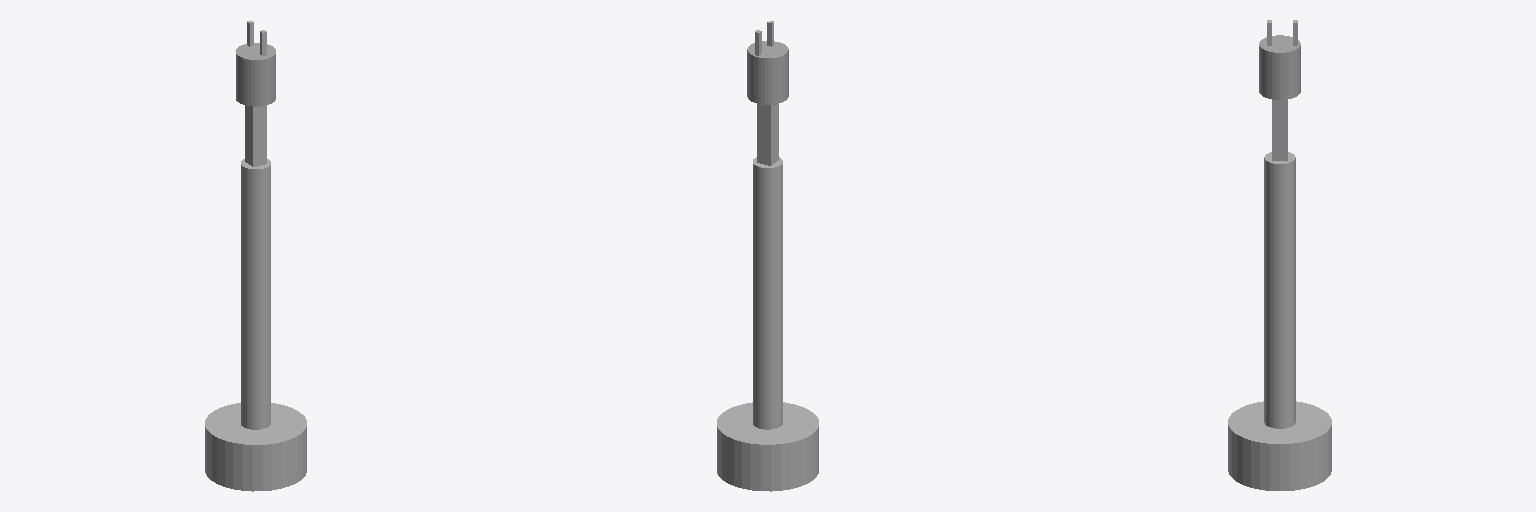
robot.urdf — manipulator:
<?xml version="1.0" ?>
<robot name="manipulator">

  <material name="yellow">
    <color rgba="0.0 0.8 0.0 1.0"/>
  </material>
  <material name="red">
    <color rgba="0.0 0.8 0.0 1.0"/>
  </material>
  <material name="black">
    <color rgba="0.0 0.0 0.0 1.0"/>
  </material>
  <material name="blue">
    <color rgba="0.0 0.0 0.0 1.0"/>
  </material>
 <material name="white">
    <color rgba="0.0 0.0 0.0 1.0"/>
  </material>
    <link name="world" />
    <!-- BASE LINK -->
    <link name="base_link">
        <visual>
            <origin rpy="0 0 0" xyz="0 0 0.01" />
            <material name="silver">
                <color rgba="0.75 0.75 0.75 1" />
            </material>
             
        </visual>
        <collision>
            <origin rpy="0 0 0" xyz="0 0 0.01" />
            <geometry>
                <cylinder length="0.02" radius="0.5" />
            </geometry>
        </collision>
        
        <inertial>

            <mass value="0.1" />
            <inertia ixx="0.03" iyy="0.03" izz="0.03" ixy="0.0" ixz="0.0" iyz="0.0" />
        </inertial>

    </link>
    <gazebo reference="base_link">
        <material>Gazebo/White</material>
	<turnGravityOff>false</turnGravityOff>
    </gazebo>
    <!-- joint -->
    <joint name="fixed" type="fixed">
        <parent link="world" />
        <child link="base_link" />
    </joint>
    <!-- LINK 1 -->
    <link name="link1">
        <visual>
            <origin rpy="0 0 0" xyz="0 0 0.05" />
            <!-- linknte paathi distance -->
            <geometry>
                <cylinder length="0.10" radius="0.10" />
            </geometry>
          <material name="silver">
                <color rgba="0.75 0.75 0.75 1" />
            </material>
        </visual>
        <collision>
            <origin rpy="0 0 0" xyz="0 0 0.05" />
            <geometry>
                <cylinder length="0.10" radius="0.10" />
            </geometry>
        </collision>
        
	<inertial>
            <mass value="0.1" />
            <inertia ixx="0.03" iyy="0.03" izz="0.03" ixy="0.0" ixz="0.0" iyz="0.0" />
        </inertial>

    </link>
    <gazebo reference="link1">
        <material>Gazebo/Black</material>
	<turnGravityOff>false</turnGravityOff>
    </gazebo>
    <!-- JOINT 1 -->
    <joint name="joint1" type="continuous">
        <origin rpy="0 0 0" xyz="0 0 0.01" />
        <!--parent linknte distance -->
        <parent link="base_link" />
        <child link="link1" />
        <axis xyz="0 0 1" />
    </joint>
    <!-- LINK 2 -->
    <link name="link2">
        <visual>
            <origin rpy="0 0 0" xyz="0 0 0.15" />
            <geometry>
                <cylinder length="0.30" radius="0.03" />
            </geometry>
            <material name="silver">
                <color rgba="0.75 0.75 0.75 1" />
            </material>
           
        </visual>
        <collision>
            <origin rpy="0 0 0" xyz="0 0 0.15" />
            <geometry>
                <cylinder length="0.30" radius="0.03" />
            </geometry>
        </collision>
        
	<inertial>
            <mass value="0.1" />
            <inertia ixx="0.03" iyy="0.03" izz="0.03" ixy="0.0" ixz="0.0" iyz="0.0" />
        </inertial>

    </link>
    <gazebo reference="link2">
        <material>Gazebo/Blue</material>
	<turnGravityOff>false</turnGravityOff>
    </gazebo>
    <!-- JOINT 2 -->
    <joint name="joint2" type="revolute">
        <origin rpy="0 0 0" xyz="0 0 0.08" />
        <parent link="link1" />
        <child link="link2" />
        <axis xyz="0 1 0" />
        <limit lower="-1.57" upper="1.57" effort="100" velocity="1" />
        <dynamics damping="0.01" friction="0.01" />
    </joint>
    <!-- LINK 3 -->
    <link name="link3">
        <visual>
            <origin rpy="0 0 0" xyz="0 0 0.15" />
            <geometry>
                <cylinder length="0.30" radius="0.03" />
            </geometry>
            <material name="silver">
                <color rgba="0.75 0.75 0.75 1" />
            </material>
        </visual>
        <collision>
            <origin rpy="0 0 0" xyz="0 0 0.15" />
            <geometry>
                <cylinder length="0.30" radius="0.03" />
            </geometry>
        </collision>
        
	<inertial>
            <mass value="0.1" />
            <inertia ixx="0.03" iyy="0.03" izz="0.03" ixy="0.0" ixz="0.0" iyz="0.0" />
        </inertial>

    </link>
    <gazebo reference="link3">
        <material>Gazebo/Black</material>
	<turnGravityOff>false</turnGravityOff>
    </gazebo>
    <!-- JOINT 3 -->
    <joint name="joint3" type="revolute">
        <origin rpy="0 0 0" xyz="0 0 0.28" />
        <parent link="link2" />
        <child link="link3" />
        <axis xyz="0 1 0" />
        <limit lower="-2.57" upper="2.57" effort="100" velocity="1" />
        <dynamics damping="0.01" friction="0.01" />
    </joint>
    <!-- LINK 4 -->
    <link name="link4">
        <visual>
            <origin rpy="0 0 0" xyz="0 0 0.05" />
            <geometry>
                <box size="0.03 0.03 0.1" />
            </geometry>
           <material name="silver">
                <color rgba="0.75 0.75 0.75 1" />
            </material>
        </visual>
        <collision>
            <origin rpy="0 0 0" xyz="0 0 0.05" />
            <geometry>
                <box size="0.03 0.03 0.1" />
            </geometry>
        </collision>
        
       <inertial>
            <mass value="0.1" />
            <inertia ixx="0.03" iyy="0.03" izz="0.03" ixy="0.0" ixz="0.0" iyz="0.0" />
        </inertial>

    </link>
    <gazebo reference="link4">
        <material>Gazebo/Blue</material>
	<turnGravityOff>false</turnGravityOff>
    </gazebo>
    <!-- JOINT 4 -->
    <joint name="joint4" type="revolute">
        <origin rpy="0 0 0" xyz="0 0 0.28" />
        <parent link="link3" />
        <child link="link4" />
        <axis xyz="0 0 1" />
        <limit lower="-3.14" upper="3.14" effort="100" velocity="1" />
        <dynamics damping="0.01" friction="0.01" />
    </joint>
    <!-- LINK 5 -->
    <link name="link5">
        <visual>
            <origin rpy="0 0 0" xyz="0 0 0.05" />
            <geometry>
                <box size="0.03 0.03 0.1" />
            </geometry>
           <material name="silver">
                <color rgba="0.75 0.75 0.75 1" />
            </material>
        </visual>
        <collision>
            <origin rpy="0 0 0" xyz="0 0 0.05" />
            <geometry>
                <box size="0.03 0.03 0.1" />
            </geometry>
        </collision>
        
	<inertial>
            <mass value="0.1" />
            <inertia ixx="0.03" iyy="0.03" izz="0.03" ixy="0.0" ixz="0.0" iyz="0.0" />
        </inertial>

    </link>
    <gazebo reference="link5">
        <material>Gazebo/Black</material>
	<turnGravityOff>false</turnGravityOff>
    </gazebo>
    <!-- JOINT 5 -->
    <joint name="joint5" type="revolute">
        <origin rpy="0 0 0" xyz="0 0 0.08" />
        <parent link="link4" />
        <child link="link5" />
        <axis xyz="0 1 0" />
        <limit lower="-2.57" upper="2.57" effort="100" velocity="1" />
        <dynamics damping="0.01" friction="0.01" />
    </joint>
    <!-- LINK 6 -->
    <link name="link6">
        <visual>
            <origin rpy="0 0 0" xyz="0 0 0.05" />
            <geometry>
                <cylinder length="0.10" radius="0.04" />
            </geometry>
          <material name="silver">
                <color rgba="0.75 0.75 0.75 1" />
            </material>
            <material name="Blue" />
        </visual>
        <collision>
            <origin rpy="0 0 0" xyz="0 0 0.05" />
            <geometry>
                <cylinder length="0.10" radius="0.04" />
            </geometry>
        </collision>
        
	<inertial>
            <mass value="0.1" />
            <inertia ixx="0.03" iyy="0.03" izz="0.03" ixy="0.0" ixz="0.0" iyz="0.0" />
        </inertial>

    </link>
    <gazebo reference="link6">
        <material>Gazebo/Blue</material>
	<turnGravityOff>false</turnGravityOff>
    </gazebo>
    <!-- JOINT 6 -->
    <joint name="joint6" type="revolute">
        <origin rpy="0 0 0" xyz="0 0 0.08" />
        <parent link="link5" />
        <child link="link6" />
        <axis xyz="1 0 0" />
        <limit lower="-2.57" upper="2.57" effort="100" velocity="1" />
        <dynamics damping="0.01" friction="0.01" />
    </joint>
    <link name="finger1">
        <visual>
            <geometry>
                <box size="0.01 0.01 .05" />
            </geometry>
            <material name="silver">
                <color rgba="0.75 0.75 0.75 1" />
            </material>
            <origin rpy="0 0 0" xyz="0.005 0.005 0.025 " />
        </visual>
        <collision>
            <geometry>
                <box size="0.01 0.01 .05" />
            </geometry>
            <origin rpy="0 0 0" xyz="0.005 0.005 0.025" />
        </collision>
        
<inertial>
            <mass value="0.1" />
            <inertia ixx="0.03" iyy="0.03" izz="0.03" ixy="0.0" ixz="0.0" iyz="0.0" />
        </inertial>

    </link>
    <gazebo reference="finger1">
        <material>Gazebo/White</material>
	<turnGravityOff>false</turnGravityOff>
    </gazebo>
    <joint name="f_joint1" type="prismatic">
        <axis xyz="0 1 0" />
        <limit effort="20" lower="0.0" upper="0.020" velocity="0.2" />
        <parent link="link6" />
        <child link="finger1" />
        <origin rpy="0 0 0" xyz="0 -0.025 0.1" />
    </joint>
    <link name="finger2">
        <visual>
            <geometry>
                <box size="0.01 0.01 .05" />
            </geometry>
            <material name="silver">
                <color rgba="0.75 0.75 0.75 1" />
            </material>
            <origin rpy="0 0 0" xyz="0.005 0.005 0.025 " />
        </visual>
        <collision>
            <geometry>
                <box size="0.01 0.01 .05" />
            </geometry>
            <origin rpy="0 0 0" xyz="0.005 0.005 0.025 " />
        </collision>
        
	<inertial>
            <mass value="0.1" />
            <inertia ixx="0.03" iyy="0.03" izz="0.03" ixy="0.0" ixz="0.0" iyz="0.0" />
        </inertial>

    </link>
    <gazebo reference="finger2">
        <material>Gazebo/White</material>
	<turnGravityOff>false</turnGravityOff>
    </gazebo>
    <joint name="f_joint2" type="prismatic">
        <axis xyz="0 1 0" />
        <limit effort="20" lower="-0.020" upper="0" velocity="0.2" />
        <parent link="link6" />
        <child link="finger2" />
        <origin rpy="0 0 0" xyz="0 0.025 0.1" />
    </joint>
    
    <transmission name="trans_joint1">
        <type>transmission_interface/SimpleTransmission</type>
        <joint name="joint1">
            <hardwareInterface>hardware_interface/PositionJointInterface</hardwareInterface>
        </joint>
        <actuator name="joint1_motor">
            <hardwareInterface>hardware_interface/PositionJointInterface</hardwareInterface>
            <mechanicalReduction>1</mechanicalReduction>
        </actuator>
    </transmission>
    <transmission name="trans_joint2">
        <type>transmission_interface/SimpleTransmission</type>
        <joint name="joint2">
            <hardwareInterface>hardware_interface/PositionJointInterface</hardwareInterface>
        </joint>
        <actuator name="joint2_motor">
            <hardwareInterface>hardware_interface/PositionJointInterface</hardwareInterface>
            <mechanicalReduction>1</mechanicalReduction>
        </actuator>
    </transmission>
    <transmission name="trans_joint3">
        <type>transmission_interface/SimpleTransmission</type>
        <joint name="joint3">
            <hardwareInterface>hardware_interface/PositionJointInterface</hardwareInterface>
        </joint>
        <actuator name="joint3_motor">
            <hardwareInterface>hardware_interface/PositionJointInterface</hardwareInterface>
            <mechanicalReduction>1</mechanicalReduction>
        </actuator>
    </transmission>
    <transmission name="trans_joint4">
        <type>transmission_interface/SimpleTransmission</type>
        <joint name="joint4">
            <hardwareInterface>hardware_interface/PositionJointInterface</hardwareInterface>
        </joint>
        <actuator name="joint4_motor">
            <hardwareInterface>hardware_interface/PositionJointInterface</hardwareInterface>
            <mechanicalReduction>1</mechanicalReduction>
        </actuator>
    </transmission>
    <transmission name="trans_joint5">
        <type>transmission_interface/SimpleTransmission</type>
        <joint name="joint5">
            <hardwareInterface>hardware_interface/PositionJointInterface</hardwareInterface>
        </joint>
        <actuator name="joint5_motor">
            <hardwareInterface>hardware_interface/PositionJointInterface</hardwareInterface>
            <mechanicalReduction>1</mechanicalReduction>
        </actuator>
    </transmission>
    <transmission name="trans_joint6">
        <type>transmission_interface/SimpleTransmission</type>
        <joint name="joint6">
            <hardwareInterface>hardware_interface/PositionJointInterface</hardwareInterface>
        </joint>
        <actuator name="joint6_motor">
            <hardwareInterface>hardware_interface/PositionJointInterface</hardwareInterface>
            <mechanicalReduction>1</mechanicalReduction>
        </actuator>
    </transmission>
    <transmission name="trans_f_joint1">
        <type>transmission_interface/SimpleTransmission</type>
        <joint name="f_joint1">
            <hardwareInterface>hardware_interface/EffortJointInterface</hardwareInterface>
        </joint>
        <actuator name="f_joint1_motor">
            <hardwareInterface>hardware_interface/EffortJointInterface</hardwareInterface>
            <mechanicalReduction>1</mechanicalReduction>
        </actuator>
    </transmission>
    <transmission name="trans_f_joint2">
        <type>transmission_interface/SimpleTransmission</type>
        <joint name="f_joint2">
            <hardwareInterface>hardware_interface/EffortJointInterface</hardwareInterface>
        </joint>
        <actuator name="f_joint2_motor">
            <hardwareInterface>hardware_interface/EffortJointInterface</hardwareInterface>
            <mechanicalReduction>1</mechanicalReduction>
        </actuator>
    </transmission>
    <gazebo>
        <plugin name="gazebo_ros_control" filename="libgazebo_ros_control.so">
            <robotNamespace>/</robotNamespace>
        </plugin>
    </gazebo>
    <gazebo>
        <plugin name="gazebo_grasp_fix" filename="libgazebo_grasp_fix.so">
            <arm>
              <arm_name>arm</arm_name>
              <palm_link>link6</palm_link>
              <gripper_link>finger1</gripper_link>
              <gripper_link>finger2</gripper_link>
            </arm>
            <forces_angle_tolerance>100</forces_angle_tolerance>
            <update_rate>4</update_rate>
            <grip_count_threshold>4</grip_count_threshold>
            <max_grip_count>8</max_grip_count>
            <release_tolerance>0.005</release_tolerance>
            <disable_collisions_on_attach>false</disable_collisions_on_attach>
            <contact_topic>__default_topic__</contact_topic>
        </plugin>
</gazebo>
</robot>

--- Facts derived from the render (not from the file) ---
Views: 3 orthographic renders of the robot side by side, from view 1: azimuth 30°, elevation 25°; view 2: azimuth 150°, elevation 25°; view 3: azimuth 270°, elevation 25°.
Robot: manipulator — 10 links, 9 joints (5 revolute, 1 continuous, 2 prismatic, 1 fixed); root link world; default pose: all joints at 0.
Links seen in each view (by area): view 1: link1, link3, link2, link6, link4, link5; view 2: link1, link3, link2, link6, link4, link5; view 3: link1, link3, link2, link6, link4.
Link boxes in pixels (x1,y1,x2,y2): link1: (205,403,306,491); link3: (241,159,270,308); link2: (241,295,270,429); link6: (236,43,275,106); link4: (245,127,266,166); link5: (245,105,266,138); link1: (717,402,818,491); link3: (753,157,782,307); link2: (753,295,782,429); link6: (747,41,788,104); link4: (757,123,778,165); link5: (757,104,778,137); link1: (1228,401,1331,490); link3: (1264,152,1295,305); link2: (1264,293,1295,428); link6: (1259,35,1300,99); link4: (1272,123,1287,160).
Bounding box of the posed robot: 0.2 × 0.2 × 0.95 m (x, y, z).
Geometry: primitives only (box / cylinder / sphere), no mesh files.